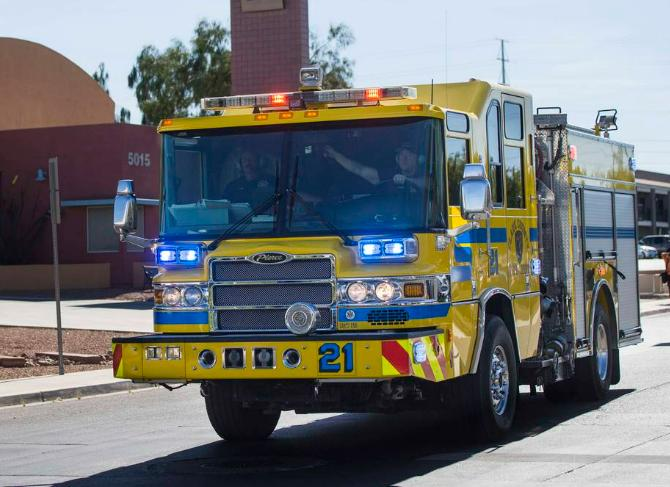firetruck_on: (111, 79, 642, 443)
